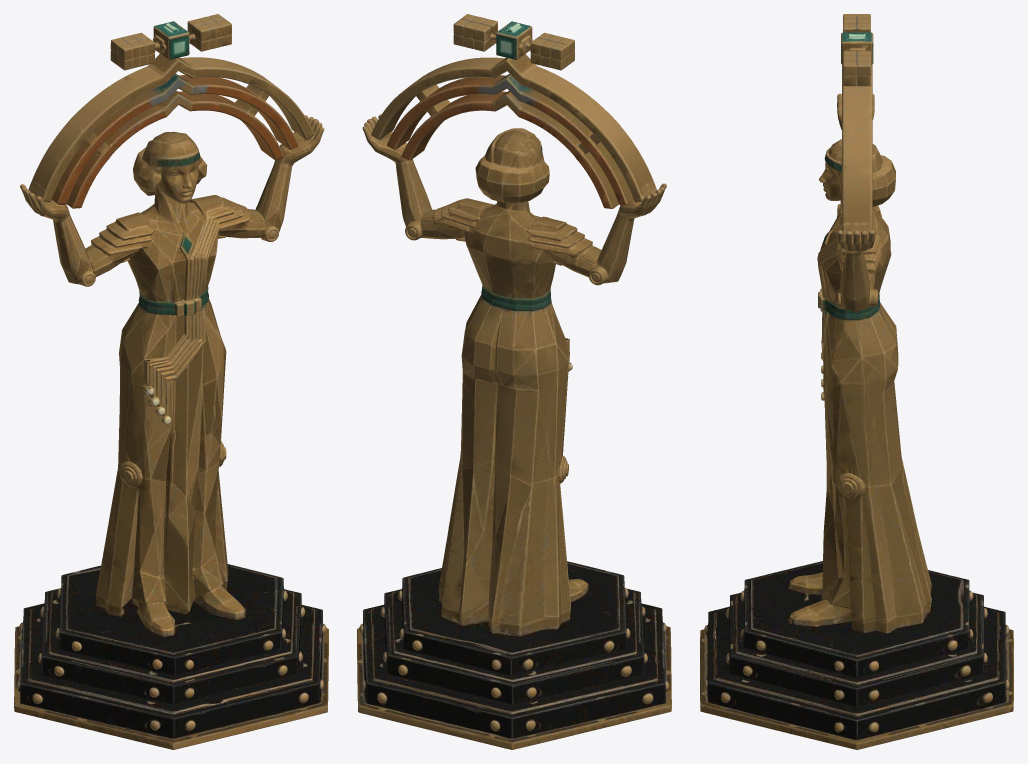
File: communication.glb
3 views of the same model, side by side, from view 1: azimuth 30°, elevation 25°; view 2: azimuth 150°, elevation 25°; view 3: azimuth 270°, elevation 25° (orthographic).
Size of the model in its own units: 0.9652 by 1.9 by 0.8438.
Materials: 1 (1 with a texture image).
